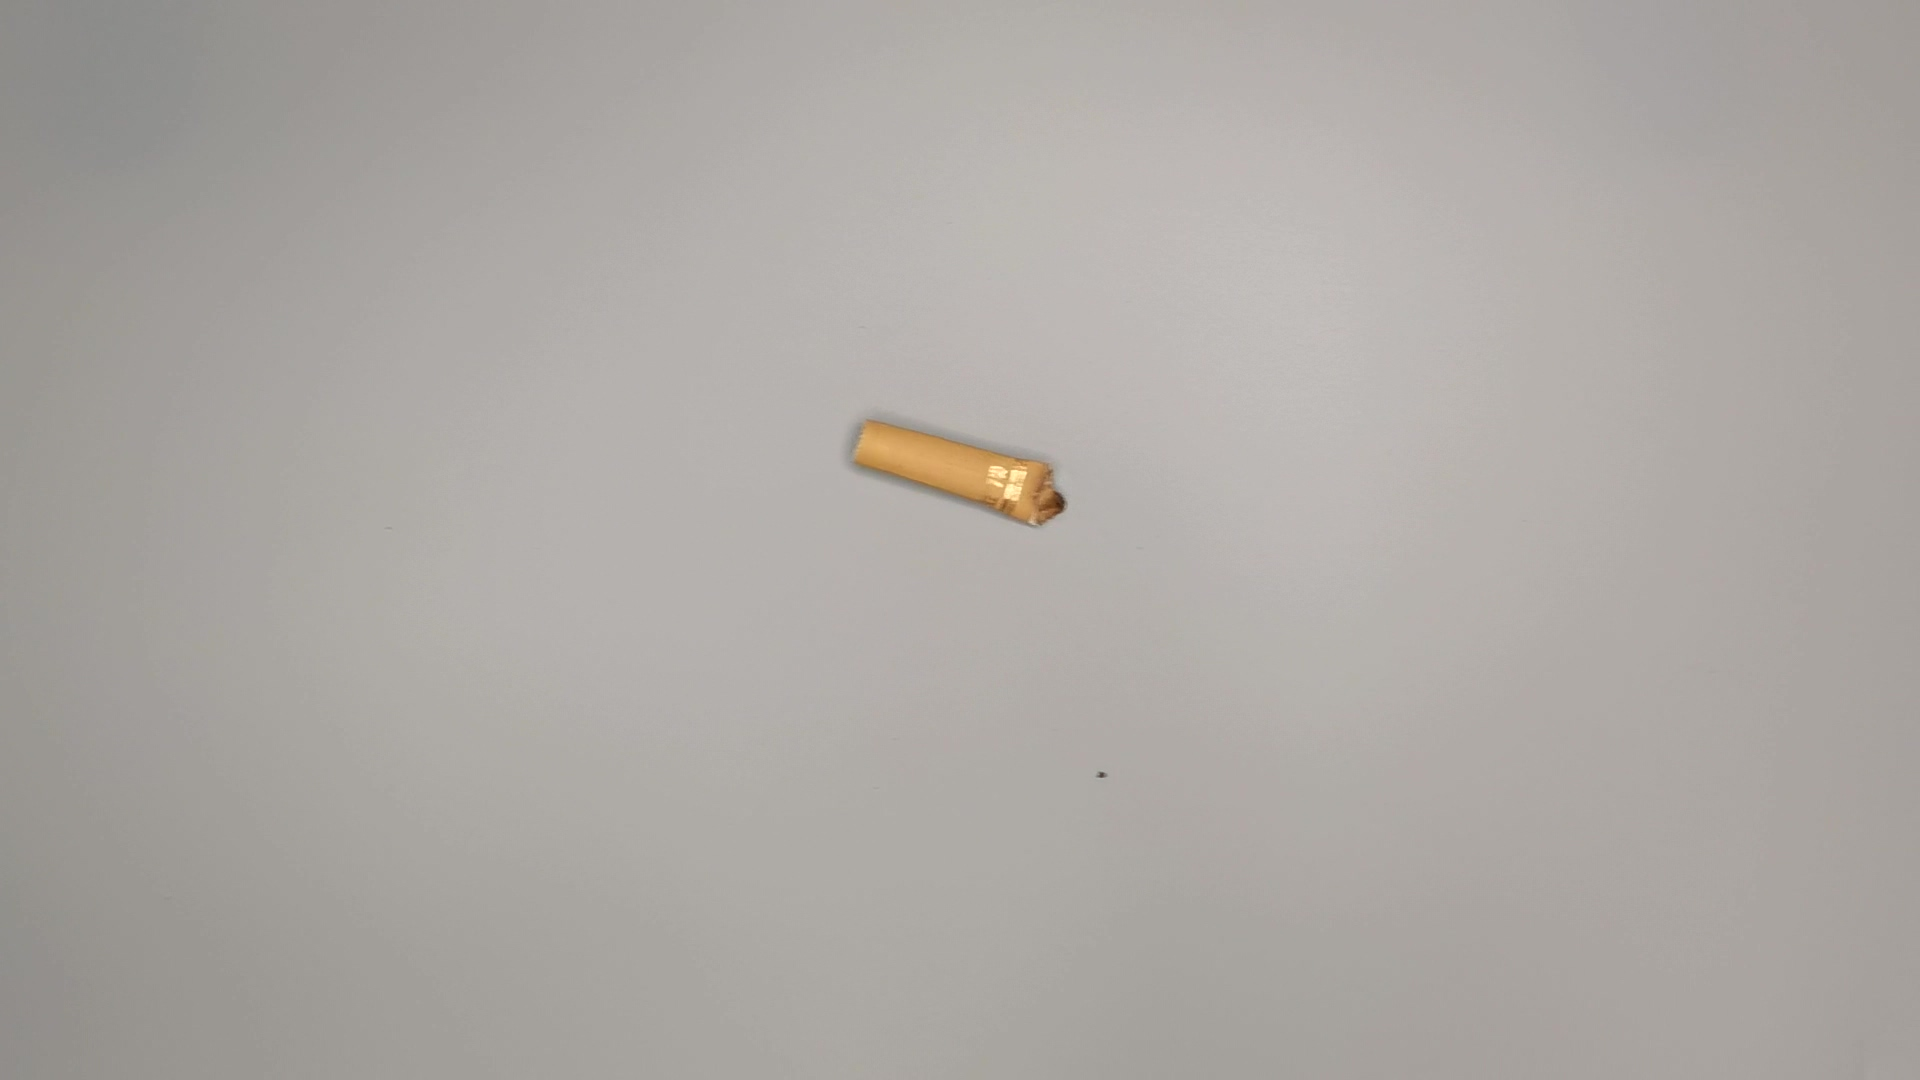cigarette: (847, 409, 1065, 527)
